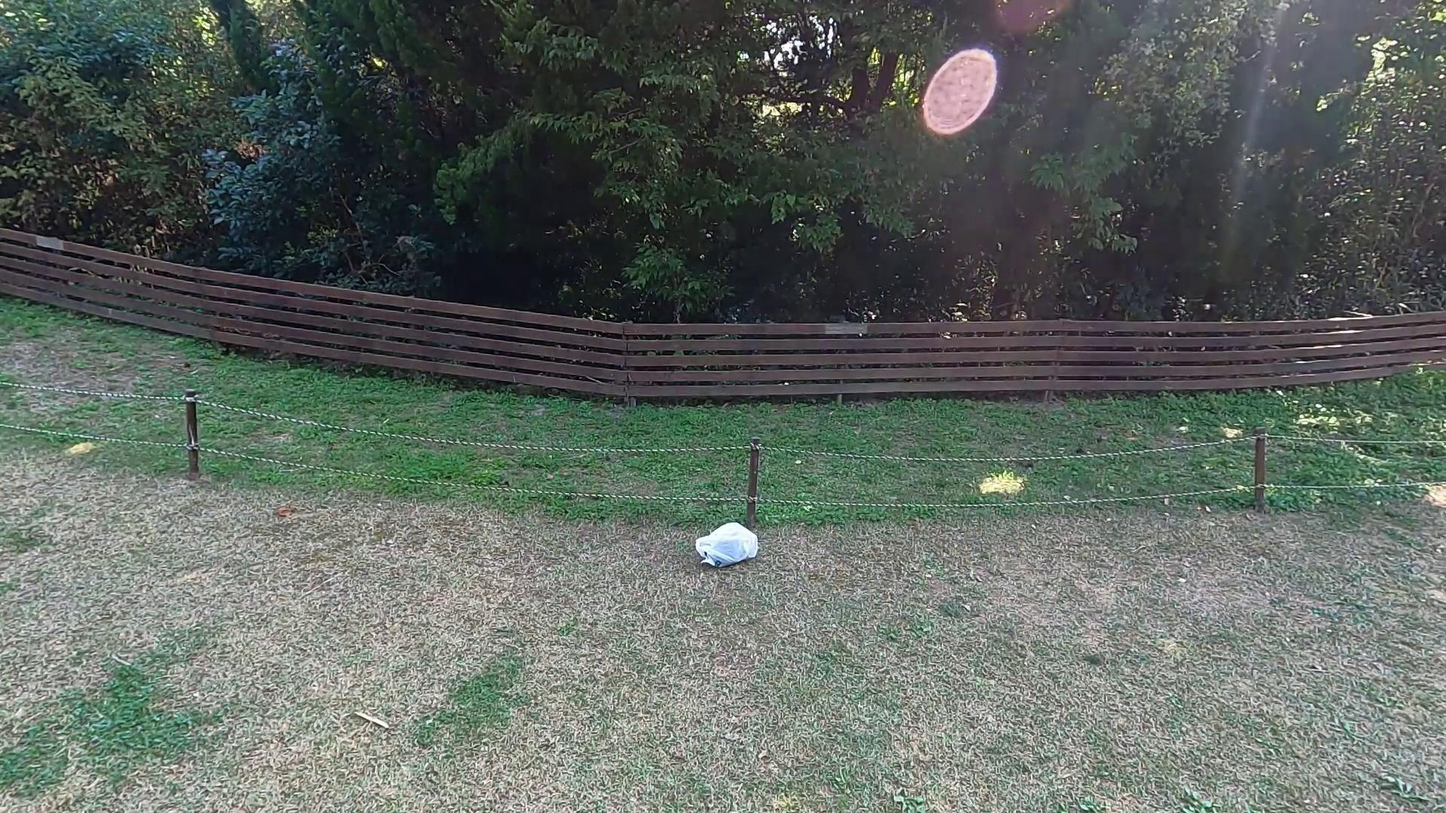trash: (692, 518, 761, 571)
